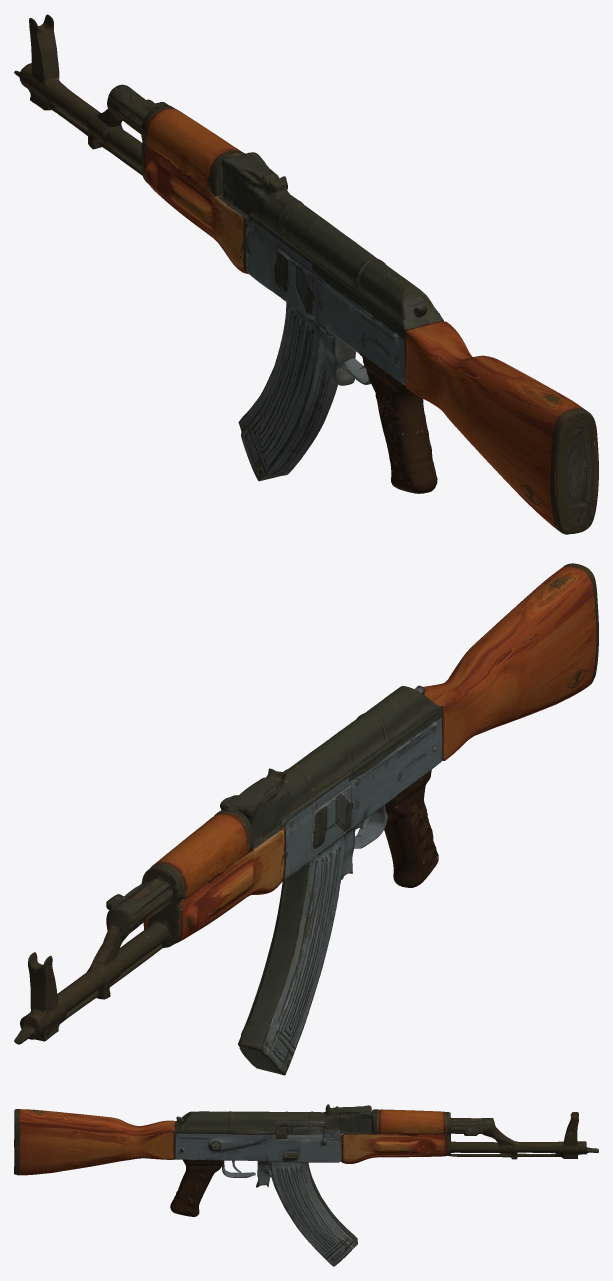
Rendered from AKM-1.0.0.fbx.
3 renders of one model, top to bottom at view 1: azimuth 30°, elevation 25°; view 2: azimuth 150°, elevation 25°; view 3: azimuth 270°, elevation 25°, orthographic. The views are drawn at different scales.
Parts seen in each view (by area): view 1: AKM_Model; view 2: AKM_Model; view 3: AKM_Model.
Boxes of the visible parts, x1,y1,x2,y2 form: AKM_Model: (14, 14, 598, 534); AKM_Model: (14, 563, 598, 1075); AKM_Model: (14, 1104, 598, 1266).
Bounding box in the file's own units: 6.22 × 29.6 × 99.95.
Materials: 1 (1 with a texture image).
